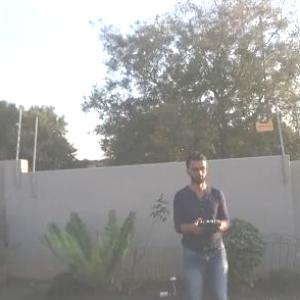follow: (169, 151, 236, 299)
